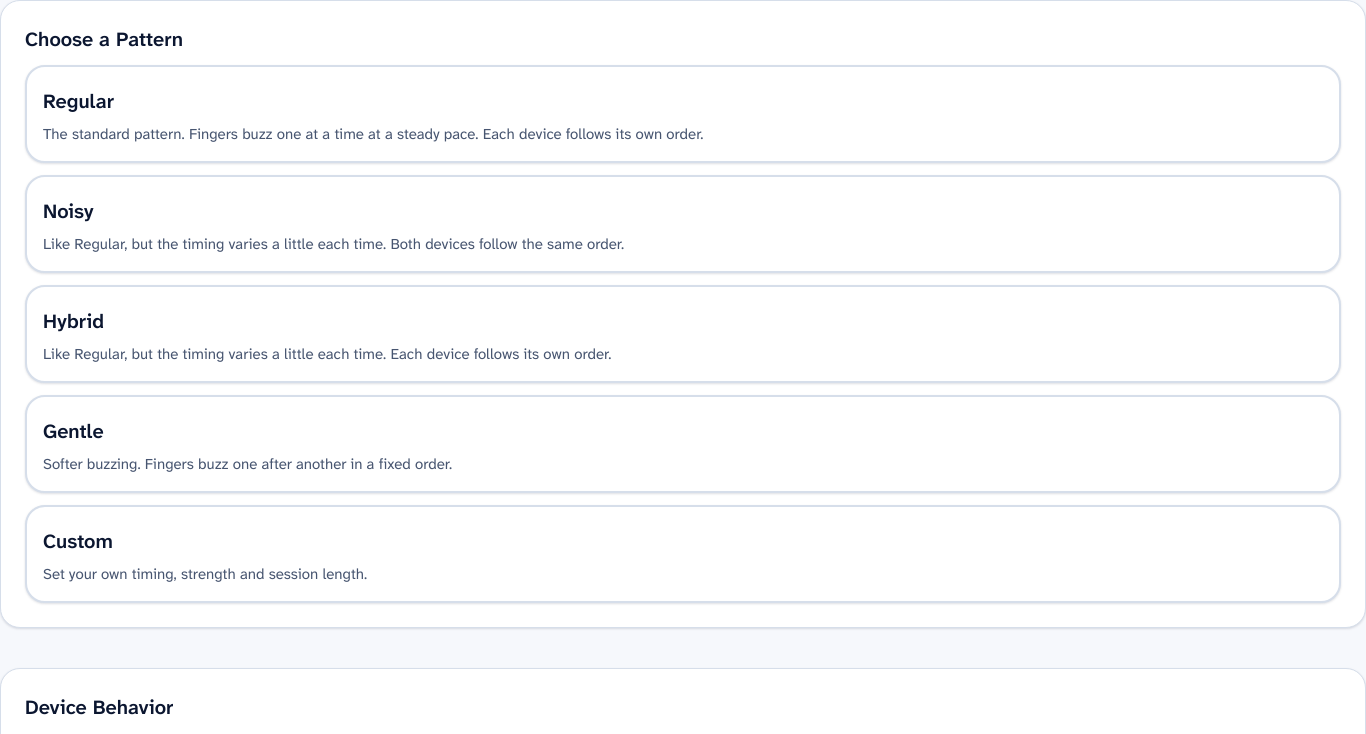
Test case: ProfileSelection › shows the custom settings only for Custom
The image size is (1366, 734).
Expected: the text "Custom Pattern" is not shown
Click the radio button labelled "Custom Set your own timing, strength and session length.". click: (78, 541)
box: [25,505,1341,603]
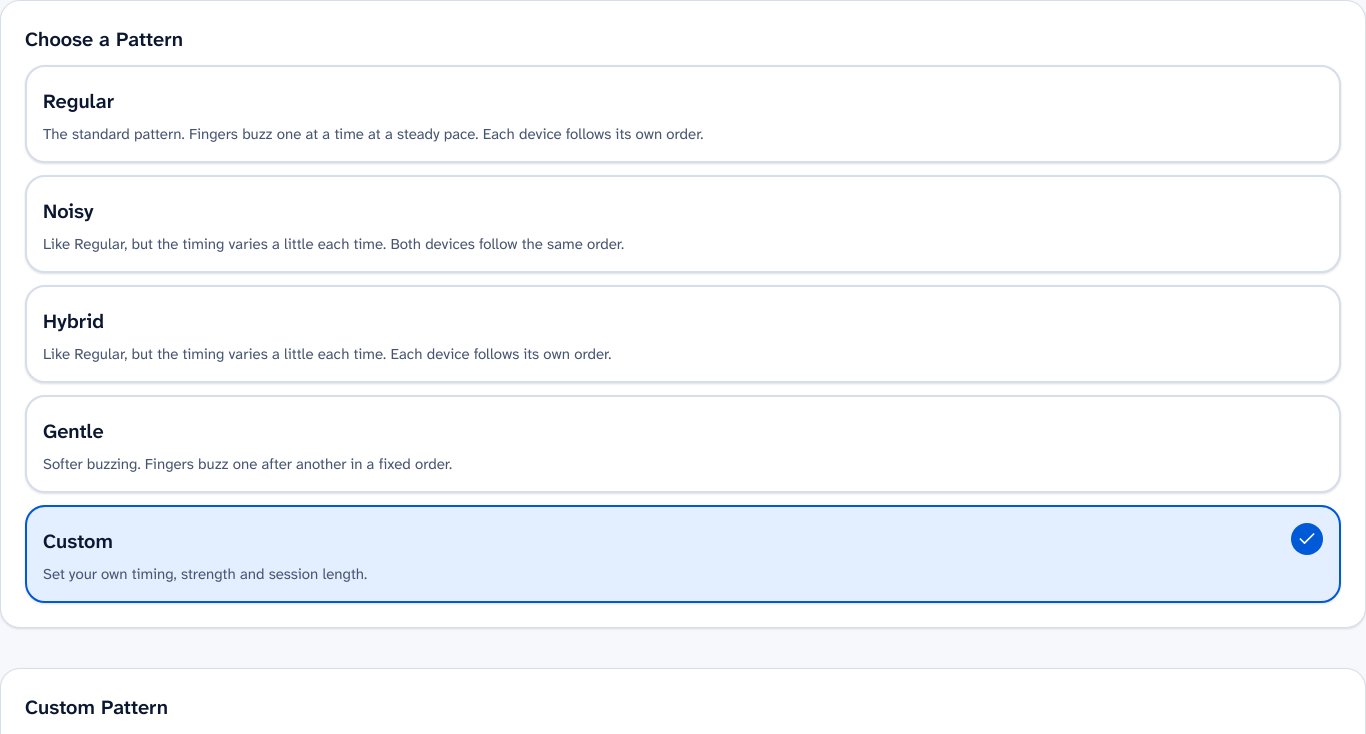
Now the heading "Custom Pattern" is shown, box [25,693,168,721]
